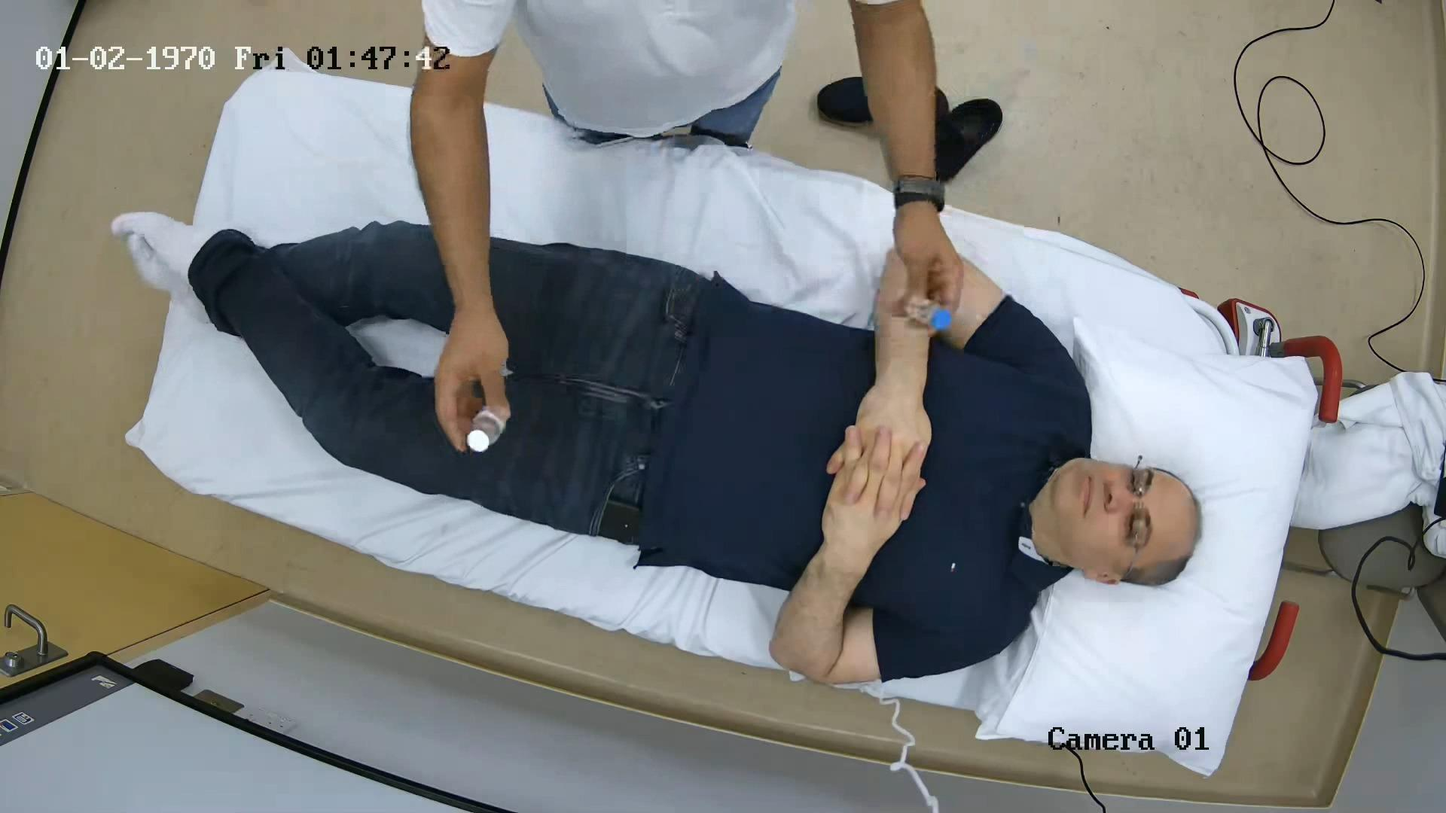augmentin: (465, 407, 505, 452)
bed: (127, 70, 1339, 775)
cefazolin: (911, 300, 951, 332)
patient: (171, 223, 1197, 683)
